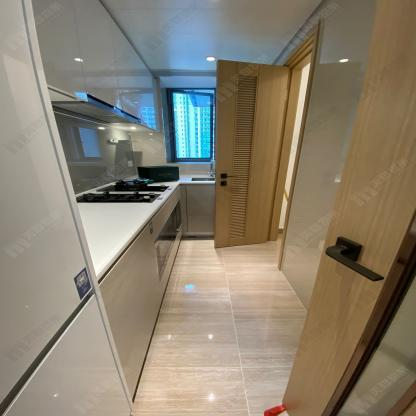Cupboard: (32, 0, 159, 131), (93, 225, 164, 398)
Exhaust Hood: (51, 93, 140, 125), (58, 92, 144, 124)
Faucet: (208, 159, 216, 177)
Sink: (192, 175, 218, 182)
Stove: (74, 178, 179, 211), (79, 190, 159, 204)
